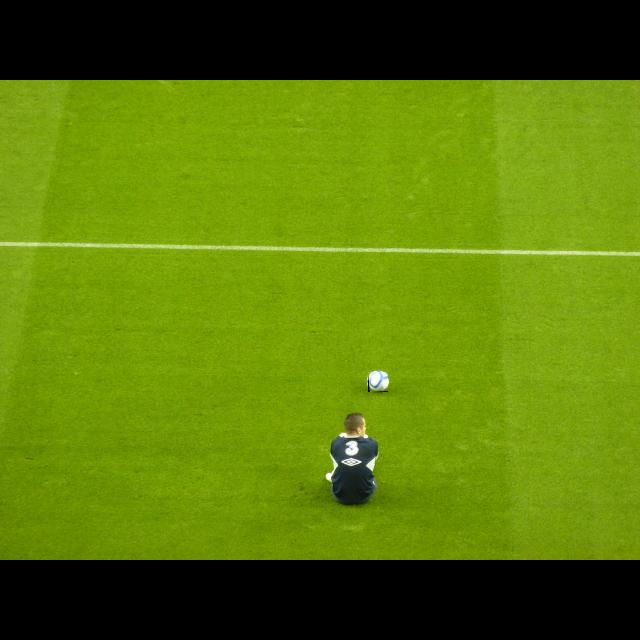Football: (368, 372, 388, 392)
